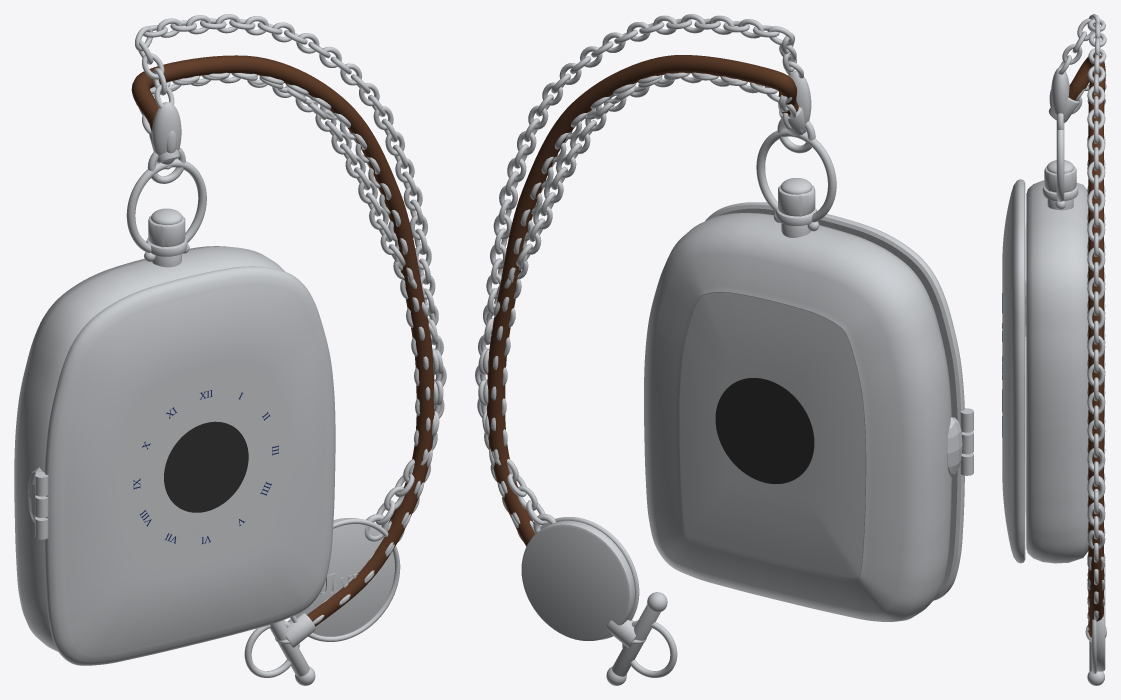
File: pocket-cushion.glb
3 renders of one model, left to right at view 1: azimuth 30°, elevation 25°; view 2: azimuth 150°, elevation 25°; view 3: azimuth 270°, elevation 25°, orthographic. The views are drawn at different scales.
Visible parts, largest first — view 1: lid_half, lid_hunter, case, chain_leather, chain_chatelaine, chain_carabiner, engrave_lid, chain_classic, pendant, bow, hinge; view 2: case, case_back, chain_chatelaine, chain_leather, chain_carabiner, engrave_back, lid_hunter, chain_classic, pendant, bow, hinge, movement; view 3: case, chain_carabiner, lid_hunter, chain_leather, lid_half, chain_chatelaine, pendant, chain_classic, bow, bezel, crystal.
Boxes of the visible parts, x1=… form: lid_half: x1=64, y1=285, x2=326, y2=654; lid_hunter: x1=35, y1=266, x2=335, y2=665; case: x1=14, y1=246, x2=285, y2=651; chain_leather: x1=131, y1=55, x2=434, y2=647; chain_chatelaine: x1=146, y1=72, x2=446, y2=641; chain_carabiner: x1=135, y1=14, x2=441, y2=677; engrave_lid: x1=164, y1=421, x2=248, y2=512; chain_classic: x1=136, y1=73, x2=430, y2=685; pendant: x1=144, y1=208, x2=189, y2=267; bow: x1=126, y1=159, x2=206, y2=252; hinge: x1=27, y1=467, x2=48, y2=539; case: x1=644, y1=213, x2=951, y2=621; case_back: x1=680, y1=292, x2=865, y2=577; chain_chatelaine: x1=475, y1=72, x2=802, y2=641; chain_leather: x1=487, y1=55, x2=815, y2=647; chain_carabiner: x1=480, y1=14, x2=811, y2=677; engrave_back: x1=715, y1=378, x2=814, y2=483; lid_hunter: x1=705, y1=202, x2=973, y2=600; chain_classic: x1=491, y1=72, x2=801, y2=685; pendant: x1=773, y1=178, x2=819, y2=237; bow: x1=756, y1=128, x2=836, y2=222; hinge: x1=947, y1=408, x2=973, y2=476; movement: x1=679, y1=292, x2=866, y2=578; case: x1=1026, y1=180, x2=1088, y2=563; chain_carabiner: x1=1049, y1=14, x2=1106, y2=633; lid_hunter: x1=1011, y1=179, x2=1025, y2=563; chain_leather: x1=1048, y1=54, x2=1106, y2=641; lid_half: x1=1002, y1=193, x2=1011, y2=549; chain_chatelaine: x1=1063, y1=73, x2=1106, y2=673; pendant: x1=1042, y1=160, x2=1078, y2=210; chain_classic: x1=1073, y1=84, x2=1106, y2=685; bow: x1=1056, y1=121, x2=1064, y2=201; bezel: x1=1026, y1=193, x2=1026, y2=548; crystal: x1=1025, y1=228, x2=1025, y2=511.
Bounding box in the file's own units: 66.06 × 97.19 × 15.3.
